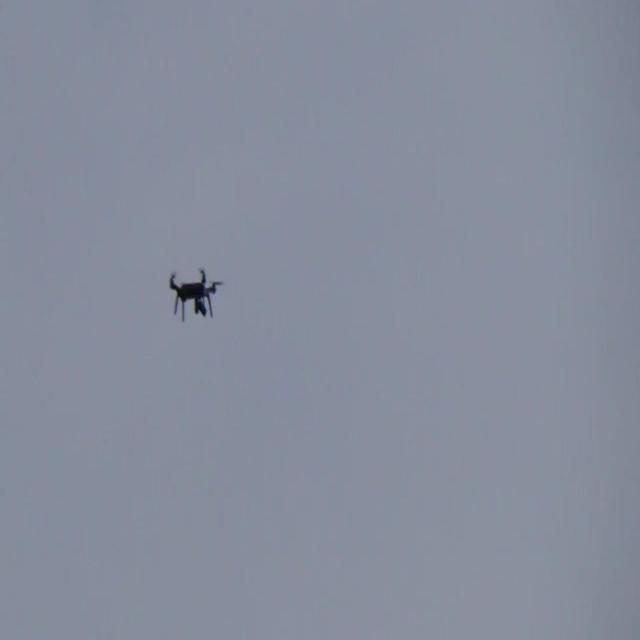UAV: (169, 268, 224, 322)
